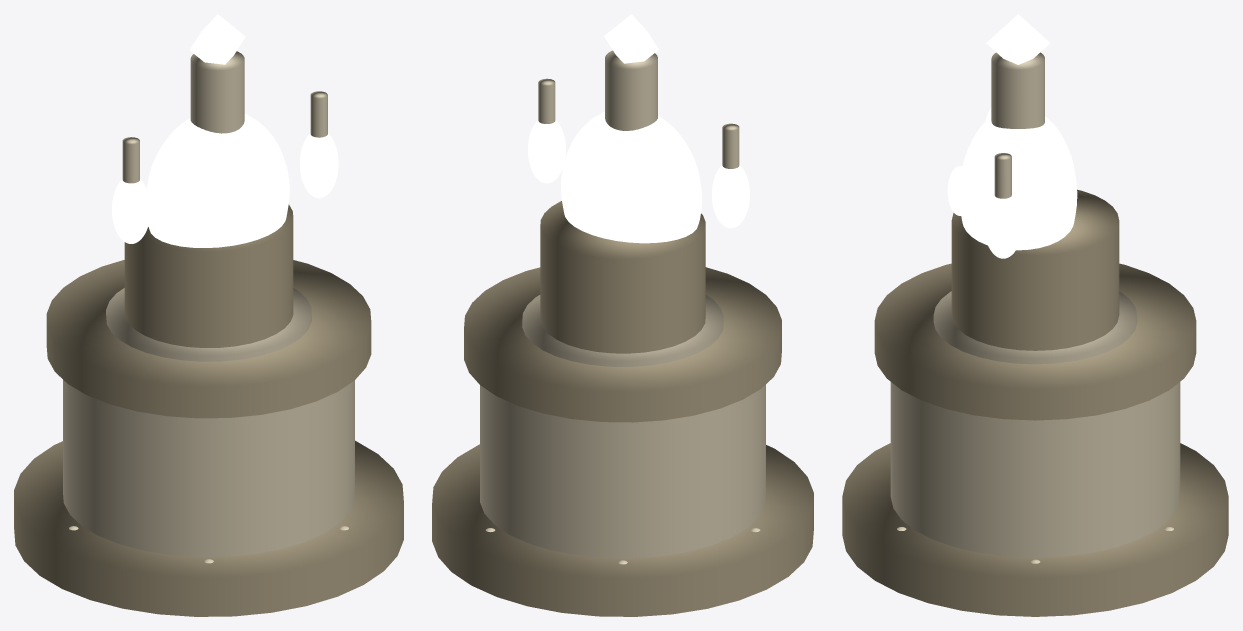
File: poison_l5.glb
The picture shows the model from 3 angles, left to right: view 1: azimuth 30°, elevation 25°; view 2: azimuth 150°, elevation 25°; view 3: azimuth 270°, elevation 25°; orthographic projection. The views are drawn at different scales.
Parts seen in each view (by area): view 1: base, footing, baseCollar, shaft, vial, lowerTrim, neck, SideVial1, SideVial-1, cap, ember, VialNeck1 (+1 smaller); view 2: base, footing, baseCollar, shaft, vial, lowerTrim, neck, SideVial-1, SideVial1, cap, VialNeck-1, VialNeck1; view 3: base, footing, baseCollar, shaft, vial, lowerTrim, neck, SideVial1, cap, VialNeck1, ember.
Boxes of the visible parts, box(x1,y1,x2,y2) form: base: box(63, 380, 354, 556); footing: box(14, 440, 403, 616); baseCollar: box(46, 260, 371, 418); shaft: box(124, 204, 293, 347); vial: box(146, 114, 289, 247); lowerTrim: box(106, 288, 311, 361); neck: box(190, 51, 244, 133); SideVial1: box(299, 133, 338, 198); SideVial-1: box(112, 179, 150, 243); cap: box(189, 14, 245, 64); ember: box(227, 190, 266, 238); VialNeck1: box(310, 91, 327, 137); base: box(480, 384, 765, 558); footing: box(432, 444, 813, 616); baseCollar: box(464, 267, 781, 422); shaft: box(540, 201, 705, 353); vial: box(560, 111, 702, 243); lowerTrim: box(522, 295, 723, 366); neck: box(605, 50, 657, 130); SideVial-1: box(712, 165, 749, 228); SideVial1: box(528, 120, 565, 183); cap: box(604, 14, 658, 63); VialNeck-1: box(722, 123, 739, 168); VialNeck1: box(538, 78, 555, 123); base: box(890, 382, 1180, 557); footing: box(842, 443, 1228, 616); baseCollar: box(874, 263, 1196, 420); shaft: box(951, 189, 1119, 350); vial: box(961, 116, 1077, 250); lowerTrim: box(933, 291, 1137, 364); neck: box(991, 52, 1044, 128); SideVial1: box(984, 194, 1022, 258); cap: box(986, 14, 1050, 64); VialNeck1: box(994, 153, 1011, 198); ember: box(947, 166, 962, 215).
Size of the model in its own units: 1.8 by 2.68 by 1.8.
